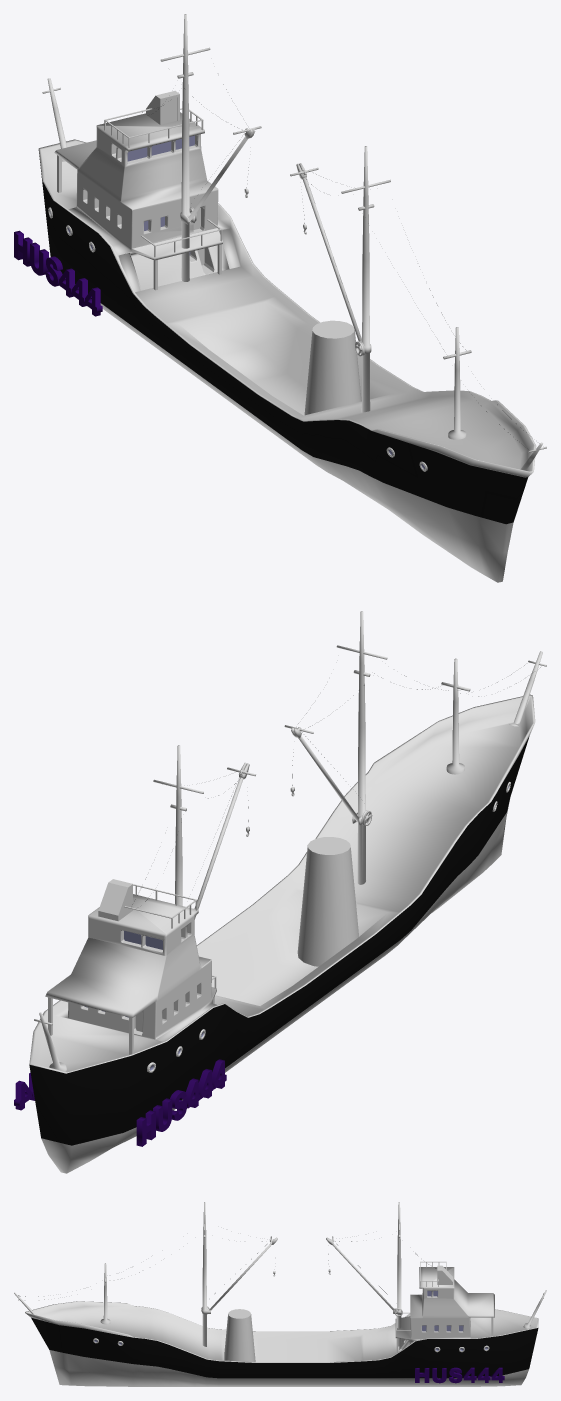
File: D3_Ship2.glb
3 renders of one model, top to bottom at view 1: azimuth 30°, elevation 25°; view 2: azimuth 150°, elevation 25°; view 3: azimuth 270°, elevation 25°, orthographic. The views are drawn at different scales.
Visible parts, largest first — view 1: Object_6, Object_2, Cylinder, Text.001, Object_4; view 2: Object_6, Object_2, Cylinder, Text.001; view 3: Object_6, Object_2, Cylinder, Text.
Part boxes in pixels (x1,y1,x2,y2): Object_6: (38, 14, 546, 582); Object_2: (39, 156, 528, 524); Cylinder: (304, 320, 361, 415); Text.001: (14, 230, 102, 316); Object_4: (50, 135, 424, 469); Object_6: (29, 611, 546, 1173); Object_2: (29, 736, 529, 1145); Cylinder: (297, 837, 358, 966); Text.001: (136, 1059, 226, 1146); Object_6: (14, 1202, 546, 1386); Object_2: (31, 1317, 538, 1378); Cylinder: (224, 1309, 255, 1362); Text: (415, 1367, 504, 1383).
Bounding box in the file's own units: 6.73 × 16.34 × 43.39.
Materials: 6 (1 with a texture image).
